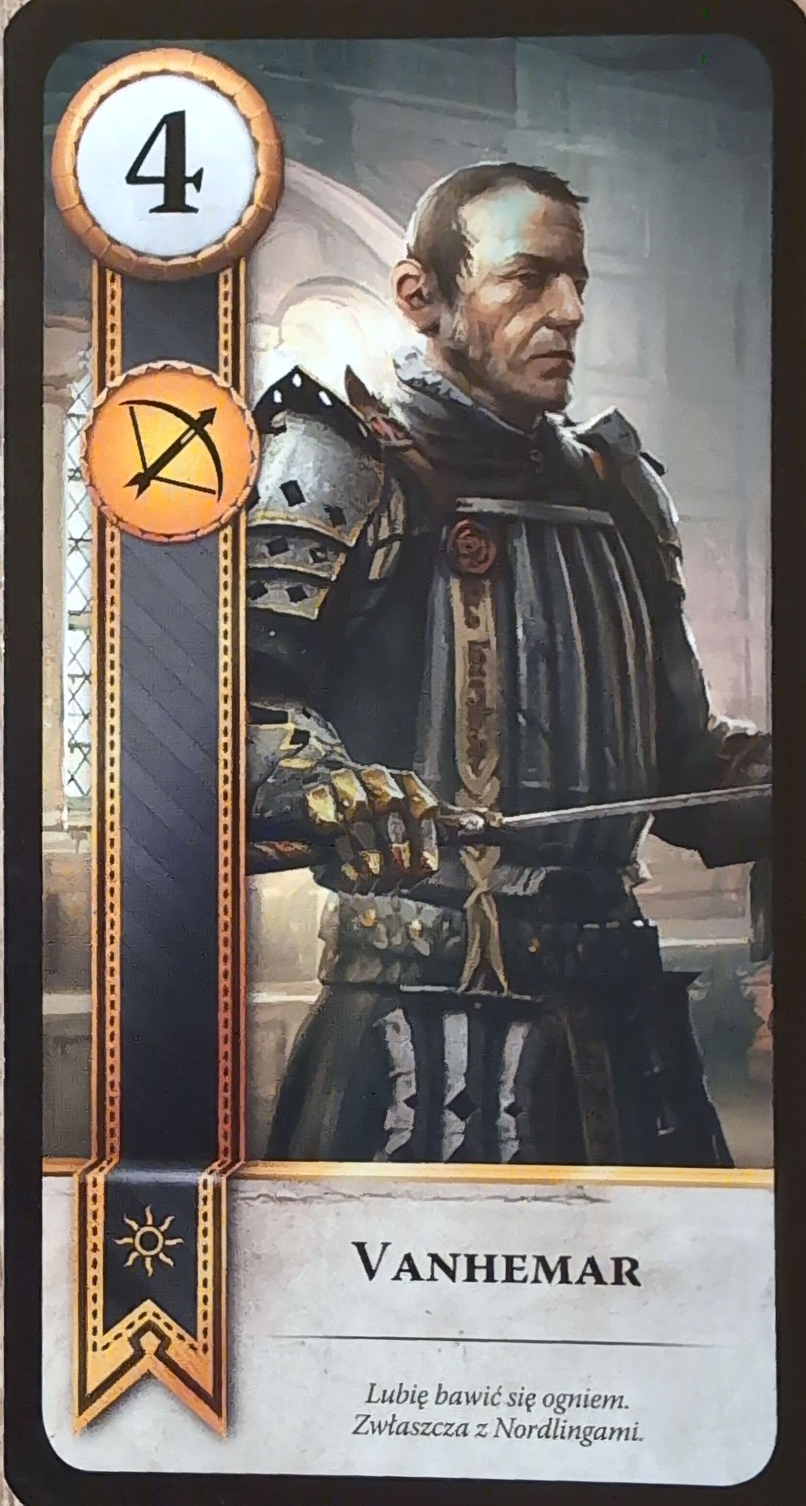4: (43, 43, 287, 283)
lucznik: (80, 361, 263, 545)
